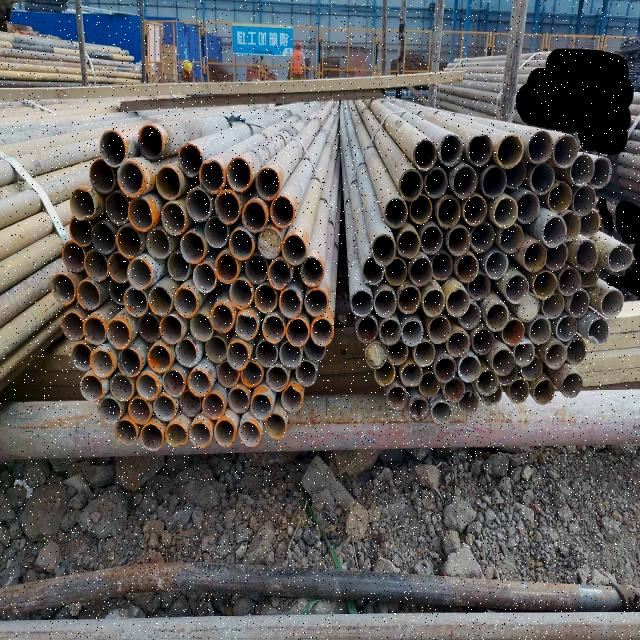pipe: (568, 152, 598, 188), (116, 160, 146, 196), (127, 256, 157, 292), (136, 121, 165, 158), (100, 127, 128, 165), (526, 130, 556, 164), (480, 164, 510, 198), (496, 132, 524, 168), (204, 213, 230, 250), (438, 132, 466, 166), (451, 166, 479, 200), (606, 242, 634, 276), (543, 338, 571, 372), (261, 310, 289, 344), (116, 345, 144, 379), (554, 133, 580, 169), (372, 232, 398, 268), (256, 163, 282, 199), (270, 193, 296, 229), (128, 196, 154, 232), (104, 190, 130, 226), (106, 248, 132, 284), (215, 190, 243, 223), (186, 188, 213, 222), (61, 308, 85, 346), (176, 334, 202, 369), (298, 256, 328, 286), (541, 215, 569, 247), (226, 158, 254, 190), (68, 188, 96, 220), (282, 232, 310, 264), (267, 258, 295, 290), (233, 310, 261, 342), (78, 370, 106, 402), (134, 368, 161, 401), (467, 133, 493, 167), (546, 178, 572, 212), (596, 290, 630, 316), (90, 157, 116, 191), (229, 228, 255, 262), (179, 230, 205, 264), (243, 250, 269, 284), (61, 238, 87, 272), (67, 340, 93, 374), (76, 279, 105, 309), (84, 246, 108, 282), (228, 276, 255, 308), (209, 300, 236, 332), (88, 344, 115, 376), (424, 165, 450, 198), (463, 193, 489, 226), (409, 255, 435, 288), (199, 160, 225, 193), (413, 137, 438, 171), (529, 164, 557, 194), (571, 185, 601, 213), (427, 314, 455, 344), (147, 284, 175, 314), (239, 358, 269, 386), (264, 409, 288, 444), (397, 170, 423, 202), (499, 220, 525, 252), (575, 238, 601, 270), (116, 224, 142, 256), (136, 312, 162, 344), (225, 339, 251, 371), (161, 366, 187, 398), (494, 196, 518, 230), (384, 196, 408, 230), (560, 211, 584, 245), (155, 167, 179, 201), (243, 198, 267, 232), (91, 221, 115, 255), (192, 260, 216, 294), (278, 286, 302, 320), (83, 311, 107, 345), (532, 270, 561, 298), (589, 157, 613, 190), (162, 200, 186, 233), (107, 318, 131, 351), (445, 226, 473, 254), (517, 194, 543, 224), (505, 272, 531, 302), (446, 286, 472, 316), (492, 344, 518, 374), (146, 228, 172, 258), (214, 254, 240, 284), (166, 250, 192, 280), (50, 273, 76, 303), (187, 312, 213, 342), (256, 337, 282, 367), (216, 360, 242, 390), (153, 394, 179, 424), (97, 394, 123, 424), (397, 226, 421, 258), (361, 254, 385, 286), (355, 312, 379, 344), (257, 228, 281, 260), (175, 285, 199, 317), (160, 313, 184, 345), (204, 331, 228, 363), (561, 369, 584, 402), (485, 251, 512, 279), (437, 196, 462, 226), (180, 142, 202, 176), (254, 282, 277, 314), (545, 241, 571, 269), (556, 266, 582, 294), (515, 292, 541, 320), (527, 315, 553, 343), (458, 353, 484, 381), (304, 288, 330, 316), (310, 316, 336, 344), (265, 364, 291, 392), (112, 418, 138, 446), (470, 222, 494, 252), (455, 252, 479, 282), (431, 250, 455, 280), (422, 288, 446, 318), (398, 284, 422, 314), (568, 288, 592, 318), (486, 300, 510, 330), (458, 300, 482, 330), (402, 318, 426, 348), (446, 328, 470, 358), (514, 337, 538, 367), (385, 382, 409, 412), (68, 216, 92, 246), (108, 276, 132, 306), (239, 418, 263, 448), (215, 417, 237, 449), (148, 346, 175, 372), (522, 240, 547, 268), (412, 338, 437, 366), (249, 392, 274, 420), (467, 273, 493, 299), (541, 292, 567, 318), (586, 318, 612, 344), (122, 290, 148, 316), (286, 317, 312, 343), (385, 257, 409, 285), (374, 288, 398, 316), (350, 288, 374, 316), (476, 366, 500, 394), (433, 356, 457, 384), (228, 384, 252, 412), (189, 420, 213, 448), (141, 424, 165, 452), (421, 226, 443, 256), (179, 386, 201, 416), (399, 362, 425, 387), (109, 374, 134, 400), (410, 196, 434, 223), (565, 338, 588, 366), (188, 366, 211, 394), (579, 212, 603, 238), (501, 318, 525, 344), (458, 388, 482, 414), (431, 398, 455, 424), (202, 393, 226, 419), (506, 164, 528, 192), (364, 342, 386, 370), (533, 376, 555, 404), (408, 396, 430, 424), (129, 396, 151, 424), (279, 387, 303, 412), (418, 370, 441, 396), (508, 378, 532, 402), (305, 338, 329, 362), (379, 320, 401, 346), (556, 314, 578, 340), (482, 384, 508, 406), (444, 376, 466, 402), (165, 422, 187, 448), (474, 328, 496, 352), (387, 342, 409, 366), (279, 345, 303, 367), (295, 362, 317, 386), (520, 358, 541, 380), (579, 267, 601, 287), (499, 366, 517, 388)
